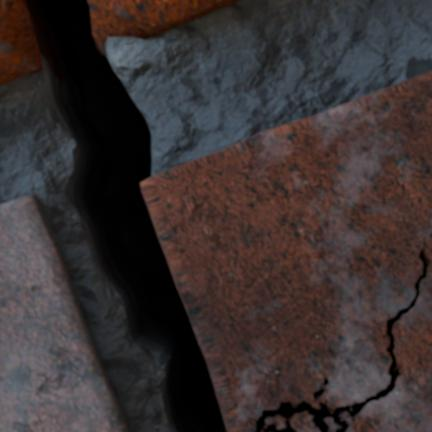brick: (142, 72, 431, 431), (0, 196, 129, 431), (343, 267, 431, 431)
broken_brick: (91, 0, 244, 41), (0, 0, 36, 87), (36, 68, 41, 73)
crack: (1, 0, 229, 431), (256, 240, 431, 431)
